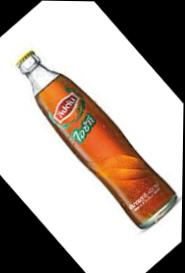glass: (0, 2, 182, 246)
